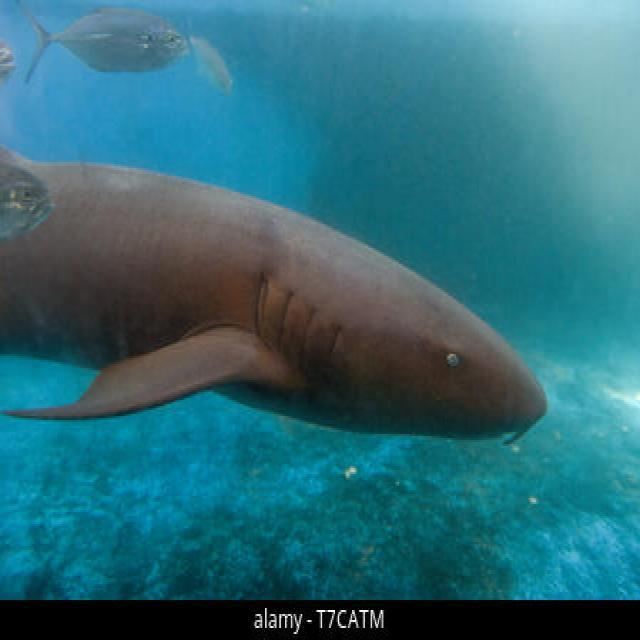Shark: (2, 122, 562, 480)
